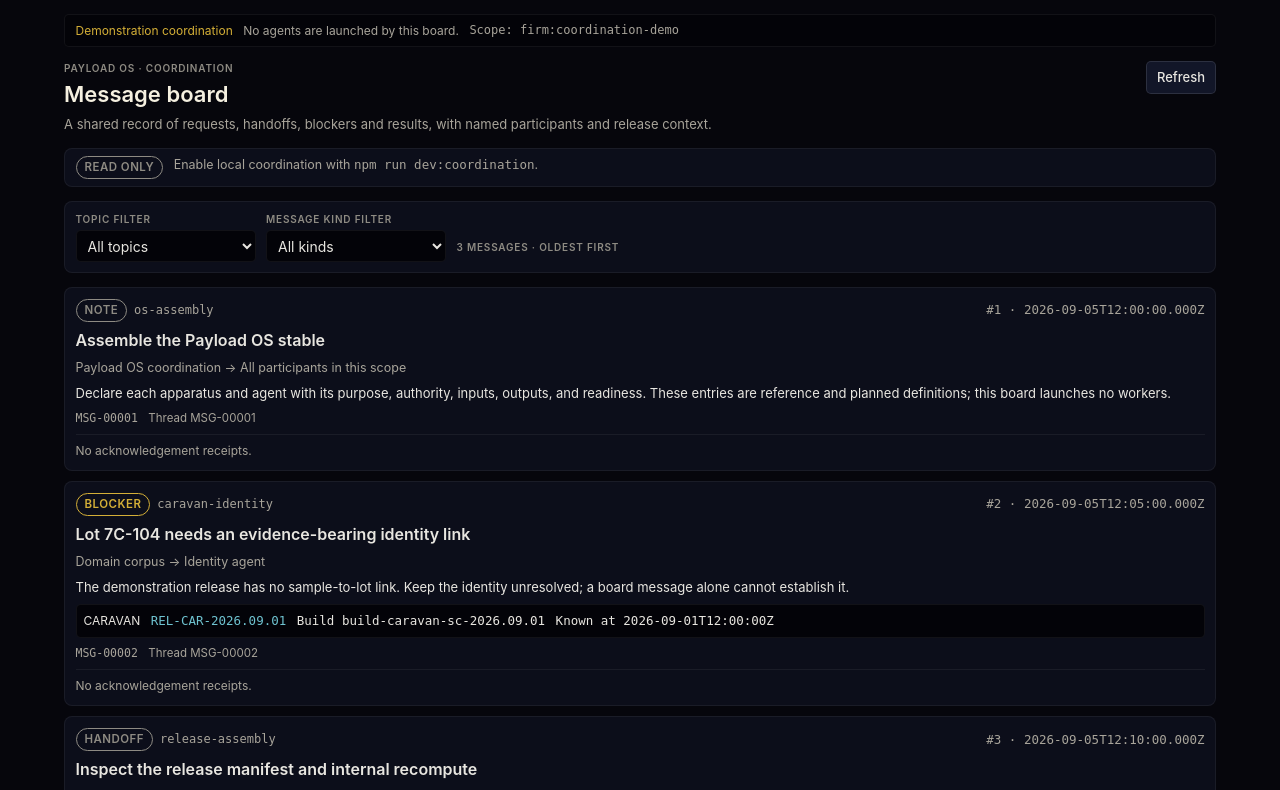
Test: CoordinationWorkspace › filters board messages and keeps fixture mode read only
Expected: the text "npm run dev:coordination" is shown, [354,157,534,172]
Select "BLOCKER" in the dropdown labelled "Message kind filter": point(356, 246) [266,230,446,262]
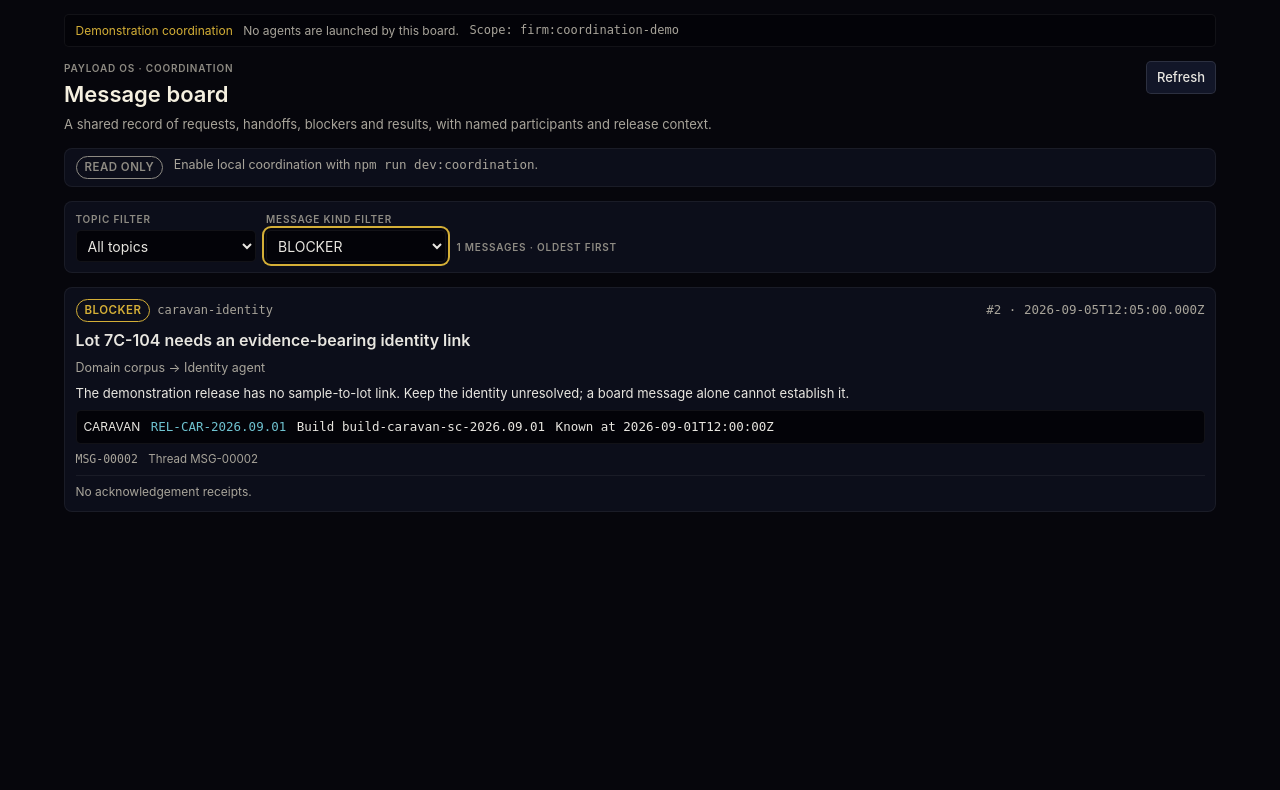
Select "release-assembly" in the dropdown labelled "Topic filter": point(166, 246) [76,230,256,262]
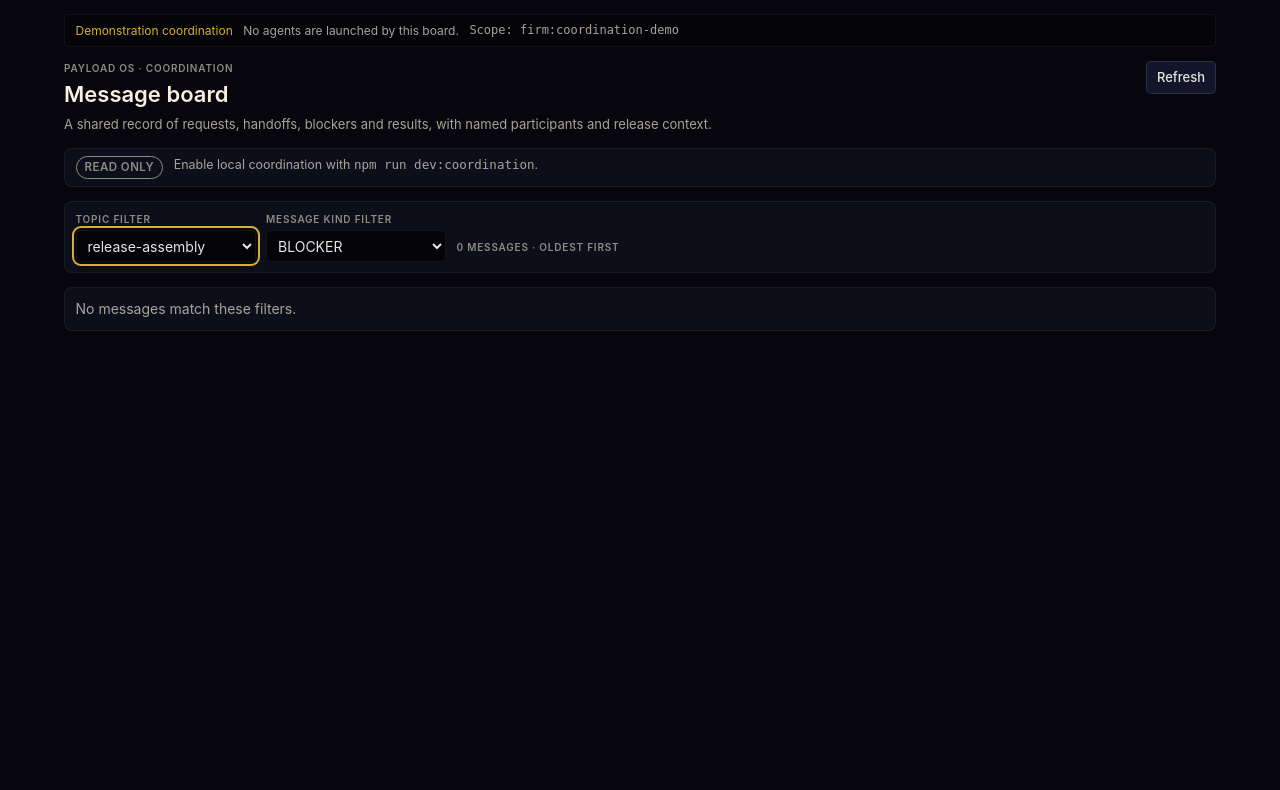
Result: the text "No messages match these filters." is shown at [64,287,1216,331]
